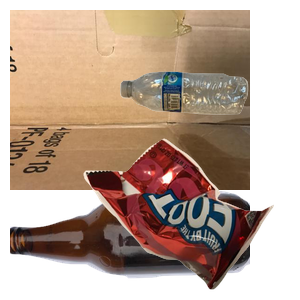cardboard: (10, 10, 250, 190)
glass: (10, 188, 250, 300)
plastic: (118, 69, 300, 176)
trash: (81, 136, 300, 300)
